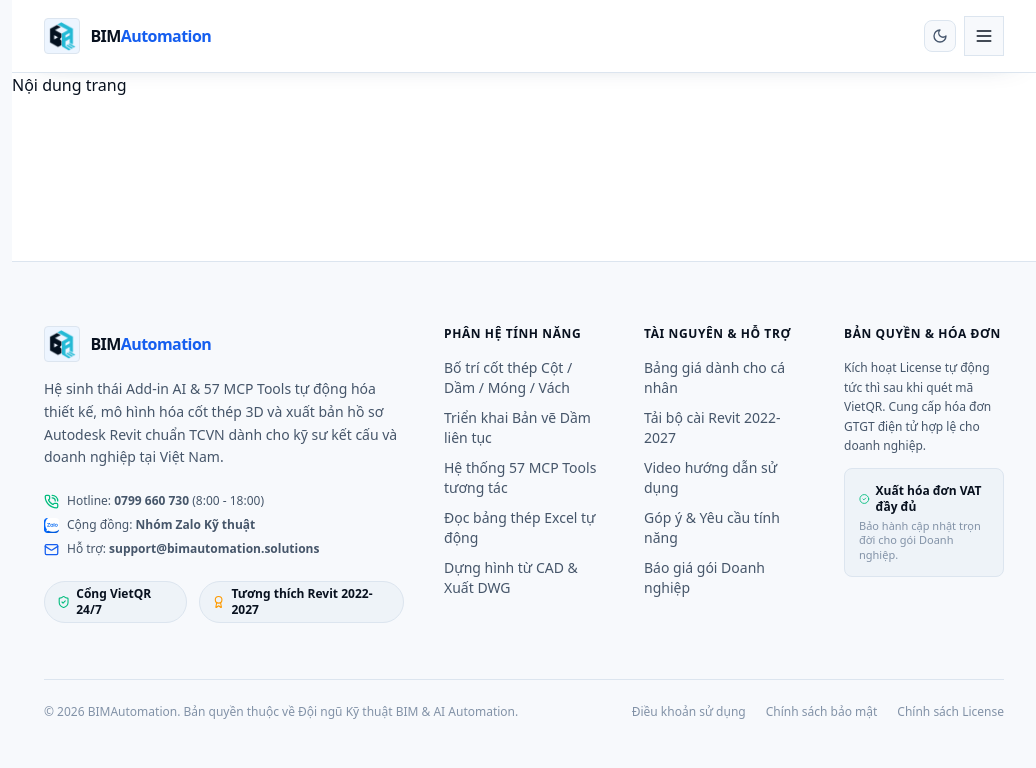
Scenario: PublicLayout admin navigation › shows the admin portal link in desktop and mobile navigation for admins
Click the button named "Mở menu": click(984, 36) [964,16,1004,56]
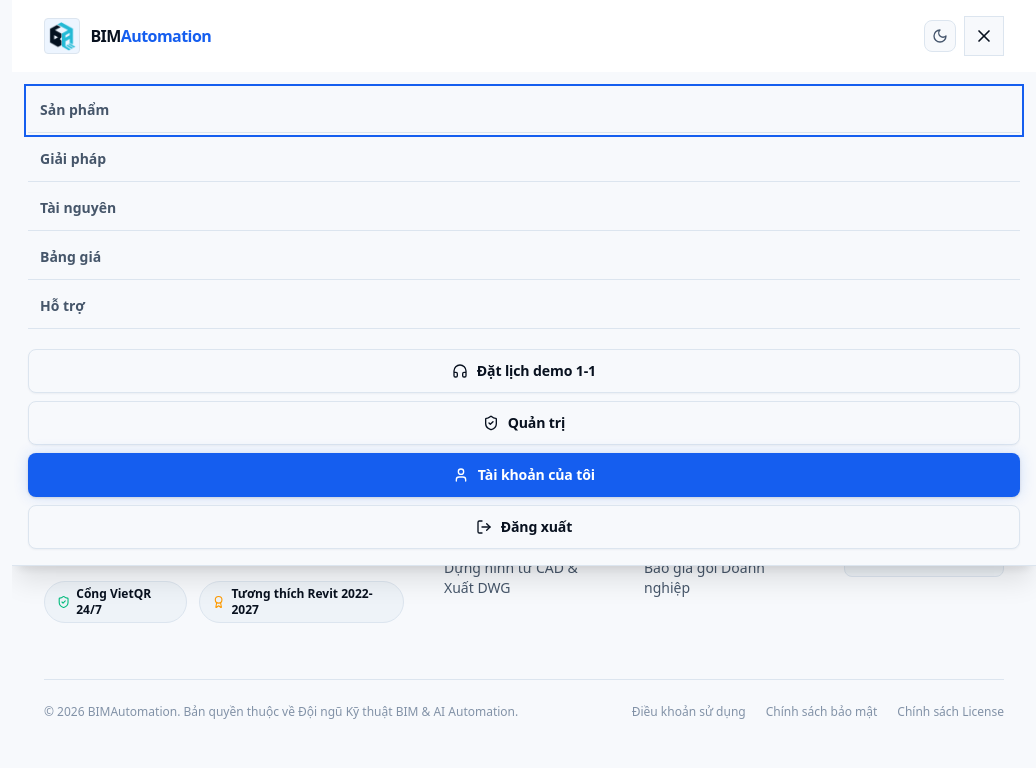
Now the number of links "Quản trị" is 2
